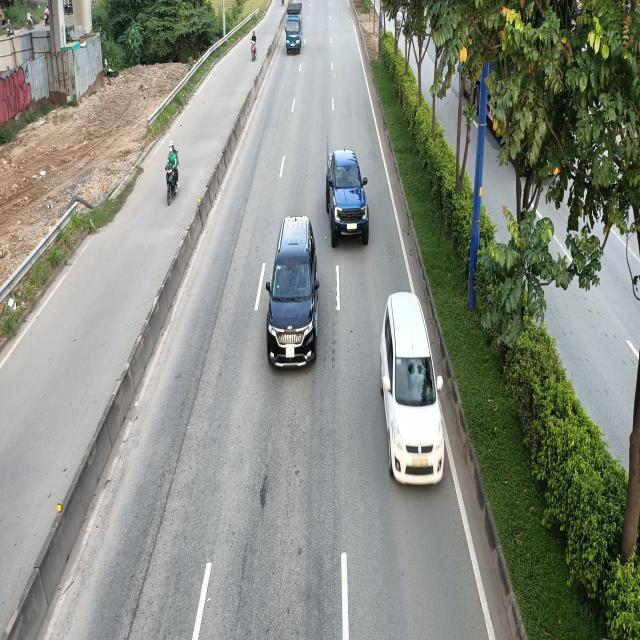car: (380, 292, 444, 484), (265, 215, 321, 370), (328, 148, 372, 246)
truck: (284, 0, 304, 53)
